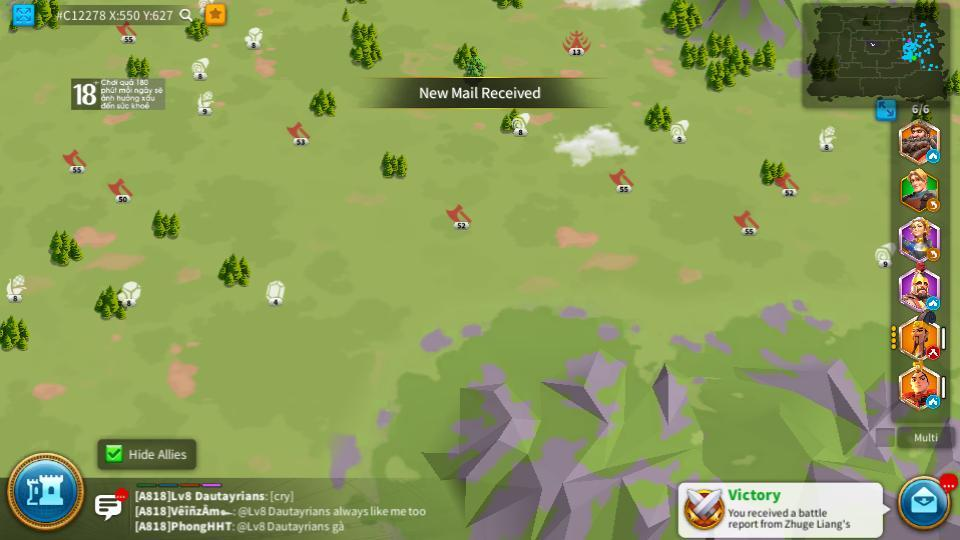gem-z-out: (264, 281, 287, 304)
march_attacking: (925, 348, 938, 359)
march_idle: (926, 396, 940, 407), (927, 150, 940, 161), (925, 297, 938, 307)
march_returning: (926, 248, 940, 259), (927, 201, 940, 212)
